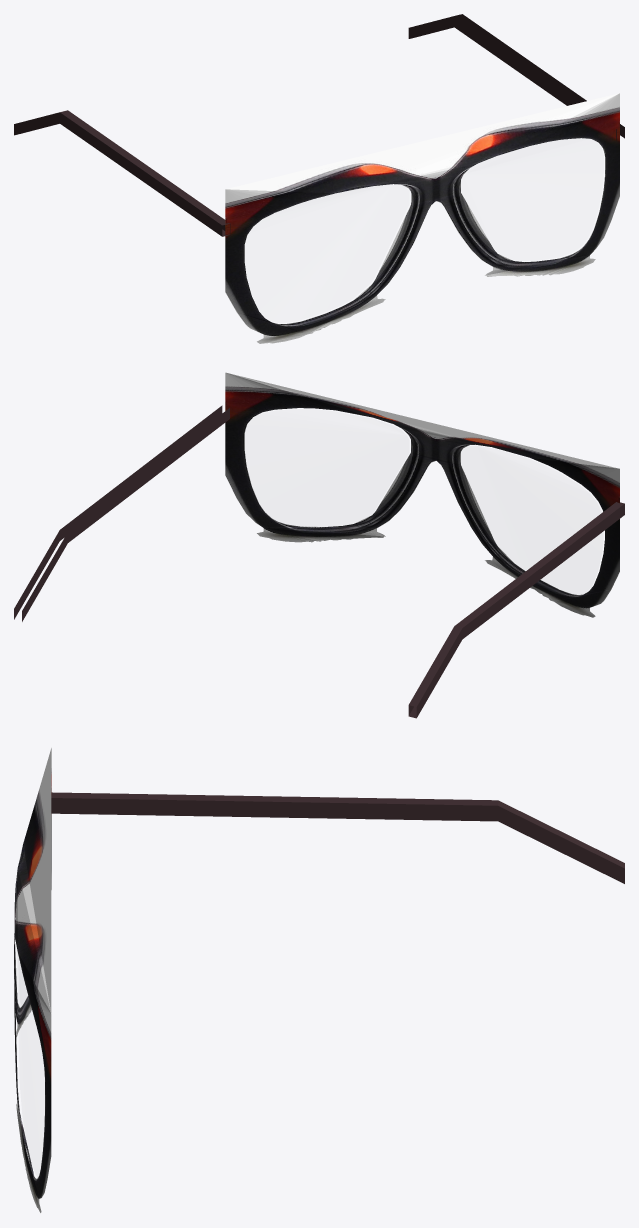
The model's file is nyc4u-bqe-3_black.glb.
3 views of the same model, one above another, from view 1: azimuth 30°, elevation 25°; view 2: azimuth 150°, elevation 25°; view 3: azimuth 270°, elevation 25° (orthographic). The views are drawn at different scales.
Parts seen in each view (by area): view 1: frame_front, temple_viewer_left, temple_viewer_right; view 2: frame_front, temple_viewer_left, temple_viewer_right; view 3: temple_viewer_left, frame_front.
Part boxes in pixels (bbox=[...]): frame_front: bbox=[225, 93, 619, 343]; temple_viewer_left: bbox=[14, 110, 230, 236]; temple_viewer_right: bbox=[408, 14, 624, 140]; frame_front: bbox=[225, 372, 619, 617]; temple_viewer_left: bbox=[408, 502, 624, 718]; temple_viewer_right: bbox=[14, 405, 229, 621]; temple_viewer_left: bbox=[51, 792, 624, 883]; frame_front: bbox=[14, 748, 51, 1212].
Bounding box in the file's own units: 0.1484 × 0.0566 × 0.141.
Materials: 3 (2 with a texture image).
